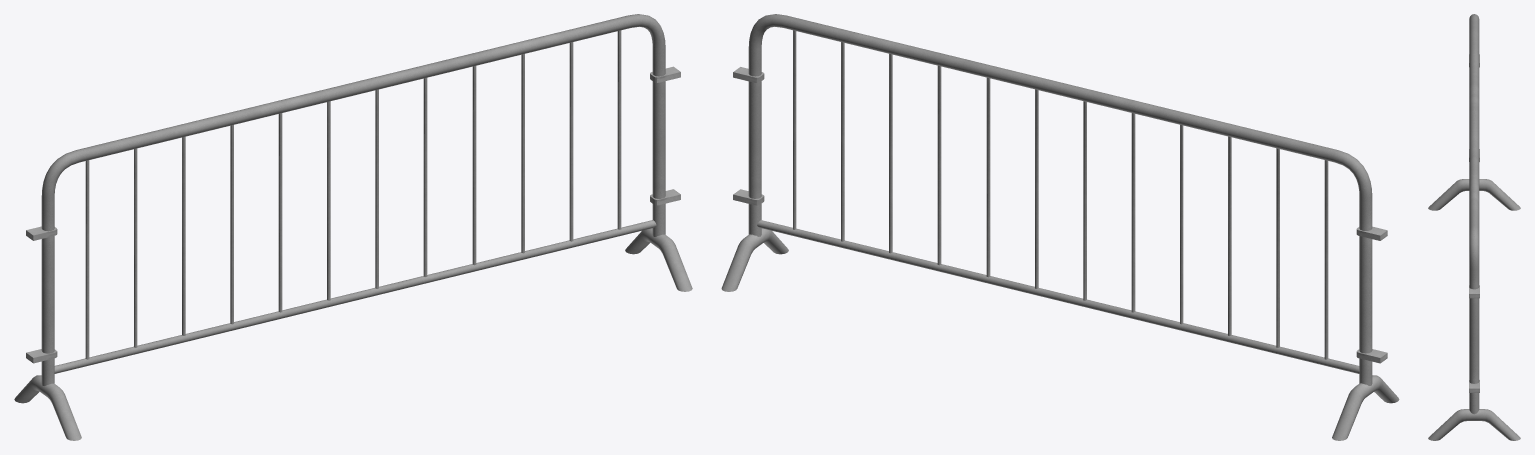
Rendered from BarricadeFence_Long.fbx.
3 views of the same model, side by side, from view 1: azimuth 30°, elevation 25°; view 2: azimuth 150°, elevation 25°; view 3: azimuth 270°, elevation 25° (orthographic). The views are drawn at different scales.
Parts seen in each view (by area): view 1: LongFence; view 2: LongFence; view 3: LongFence.
Boxes of the visible parts, x1,y1,x2,y2 form: LongFence: (14, 14, 692, 440); LongFence: (721, 14, 1399, 440); LongFence: (1428, 14, 1520, 440).
Size of the model in its own units: 106 by 40.96 by 17.1.
1 material, 1 textured.
